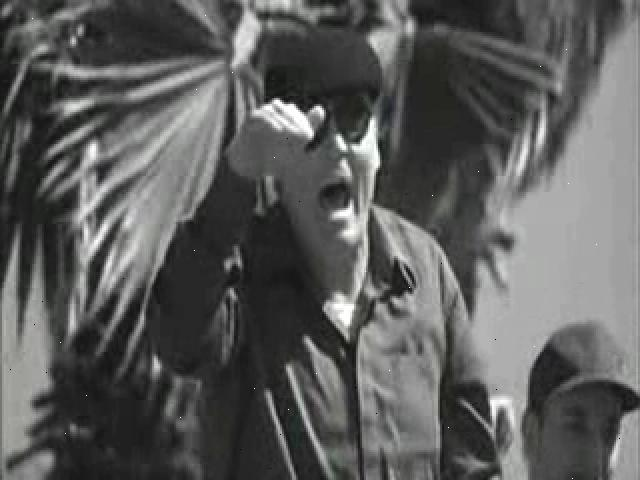T: (153, 28, 504, 479)
